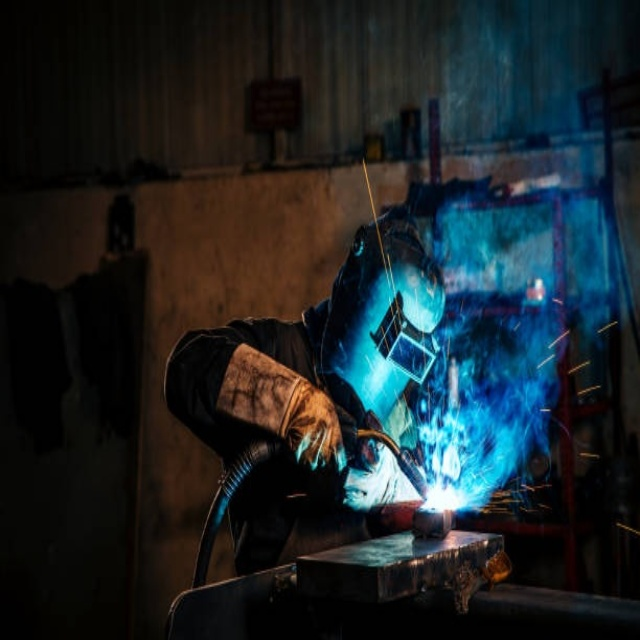Guantes: (211, 336, 349, 475)
